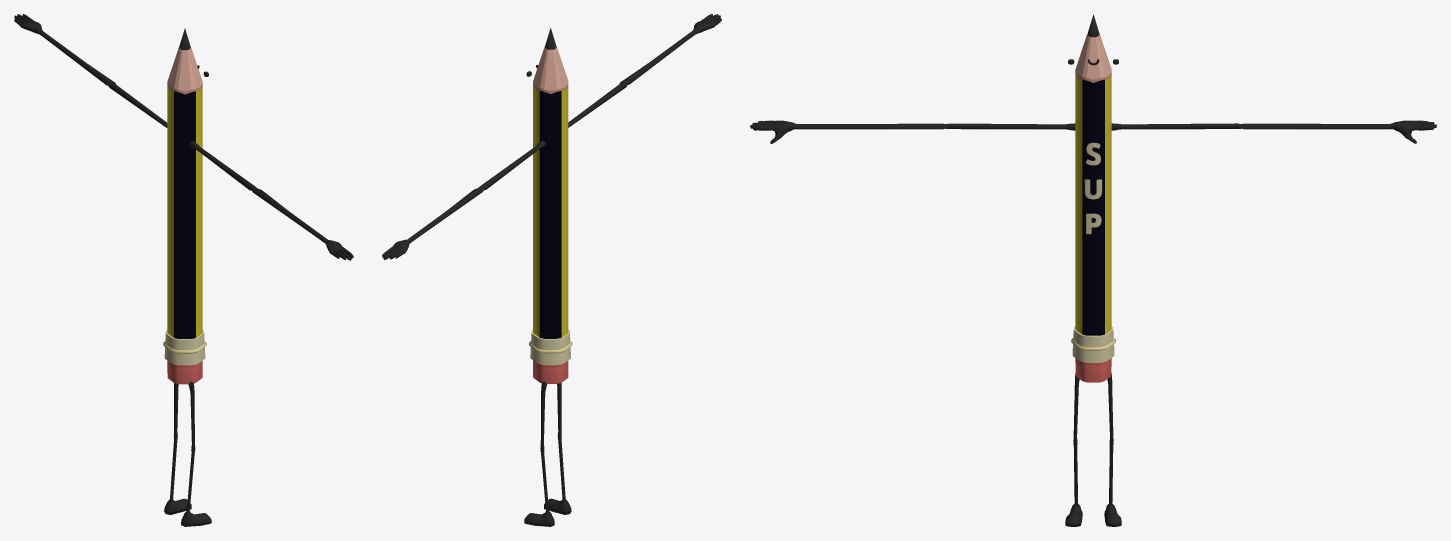
Rendered from Pencil_Character.glb.
3 renders of one model, left to right at view 1: azimuth 30°, elevation 25°; view 2: azimuth 150°, elevation 25°; view 3: azimuth 270°, elevation 25°, orthographic. The views are drawn at different scales.
Visible parts, largest first — view 1: _100Avatars_164_PencilBeing; view 2: _100Avatars_164_PencilBeing; view 3: _100Avatars_164_PencilBeing.
Part boxes in pixels (x1,y1,x2,y2): _100Avatars_164_PencilBeing: (14,14,353,526); _100Avatars_164_PencilBeing: (382,14,721,526); _100Avatars_164_PencilBeing: (750,14,1436,526).
Size of the model in its own units: 0.3893 by 5.1 by 6.28.
Materials: 1 (1 with a texture image).
